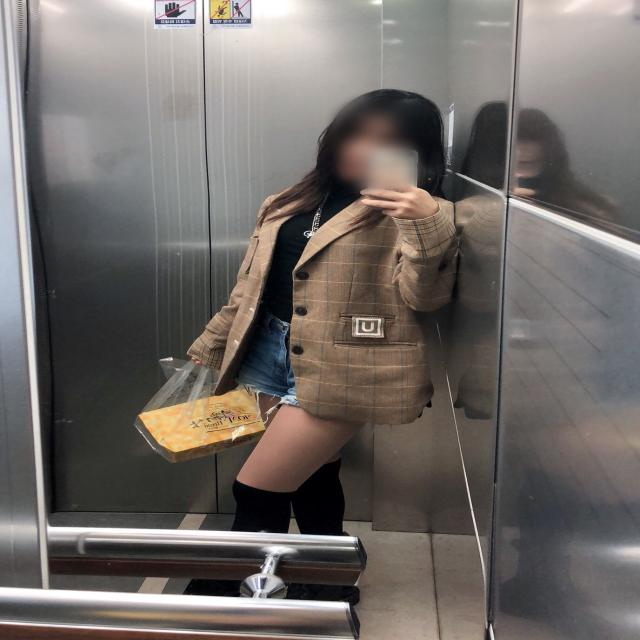blazer: (179, 180, 449, 423)
shortpants: (233, 314, 320, 417)
